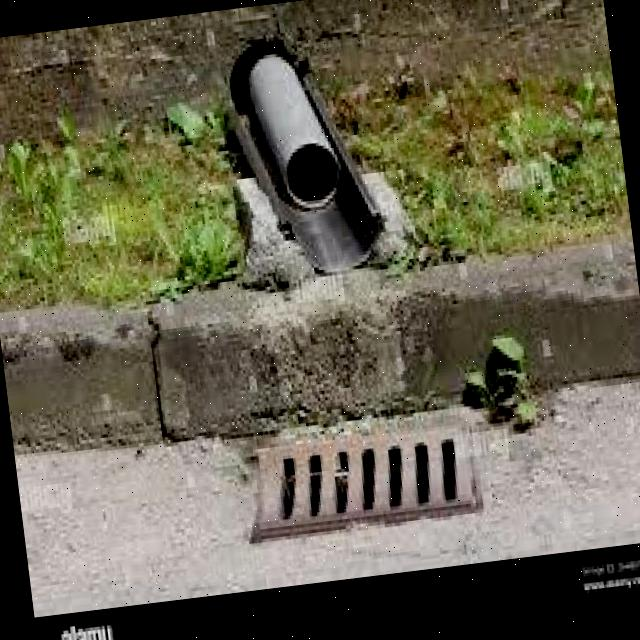curb: (1, 247, 640, 472)
